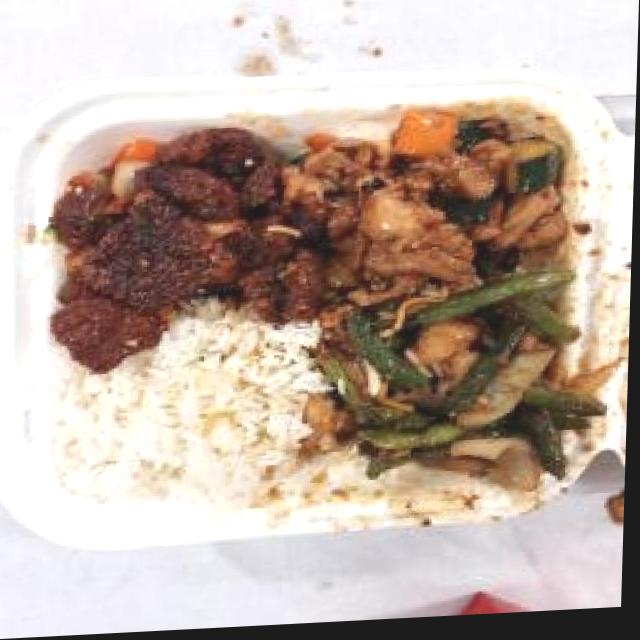Beijing Beef: (44, 118, 330, 378)
Kung Pao Chicken: (307, 98, 582, 317)
String Bean Chicken Breast: (333, 280, 606, 491)
White Steamed Rice: (58, 332, 322, 525)
